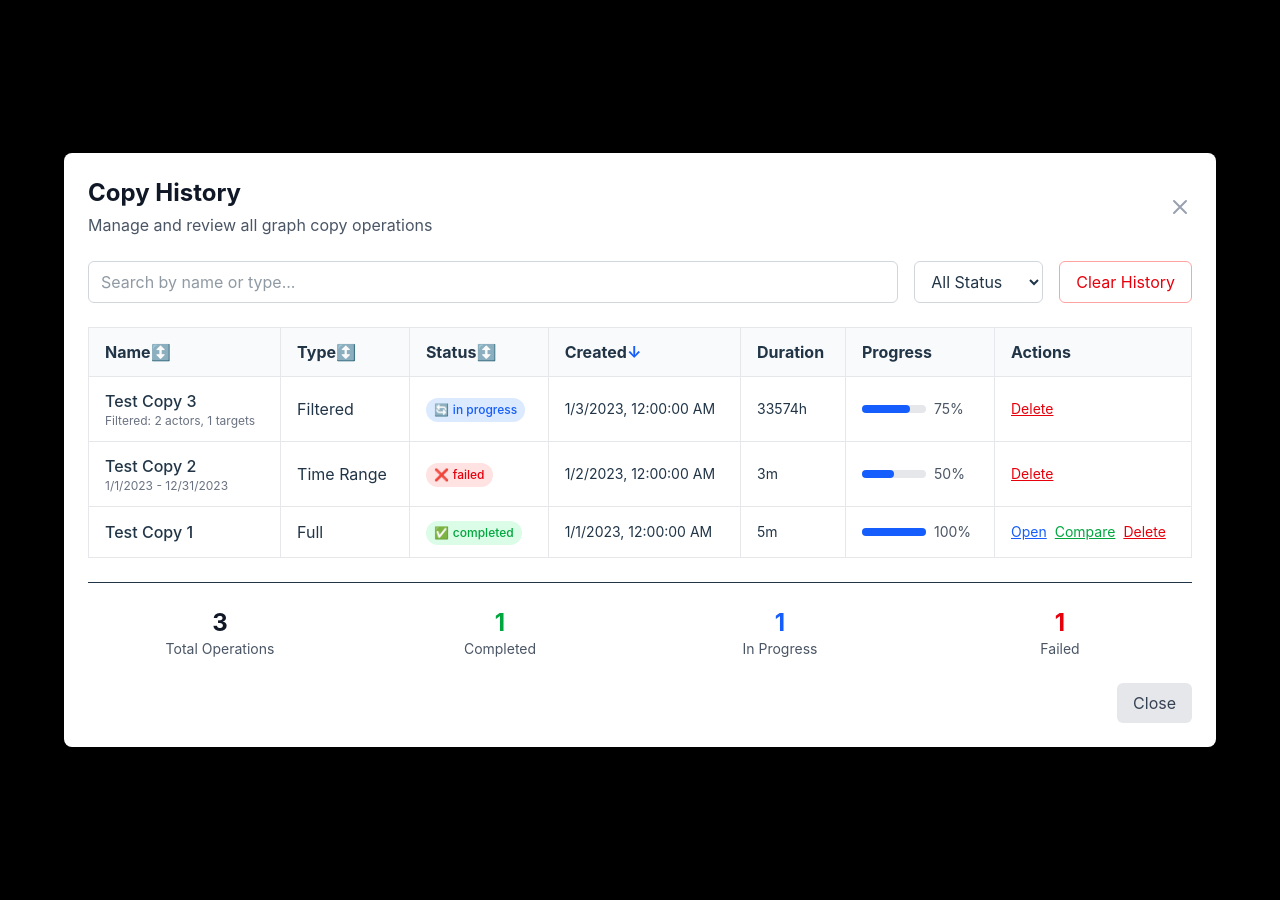
Test case: CopyHistoryPanel › should not delete when the confirmation is cancelled
Click the button "Delete" in the row of "Test Copy 3".
click(1032, 409)  # box [1011,399,1053,419]
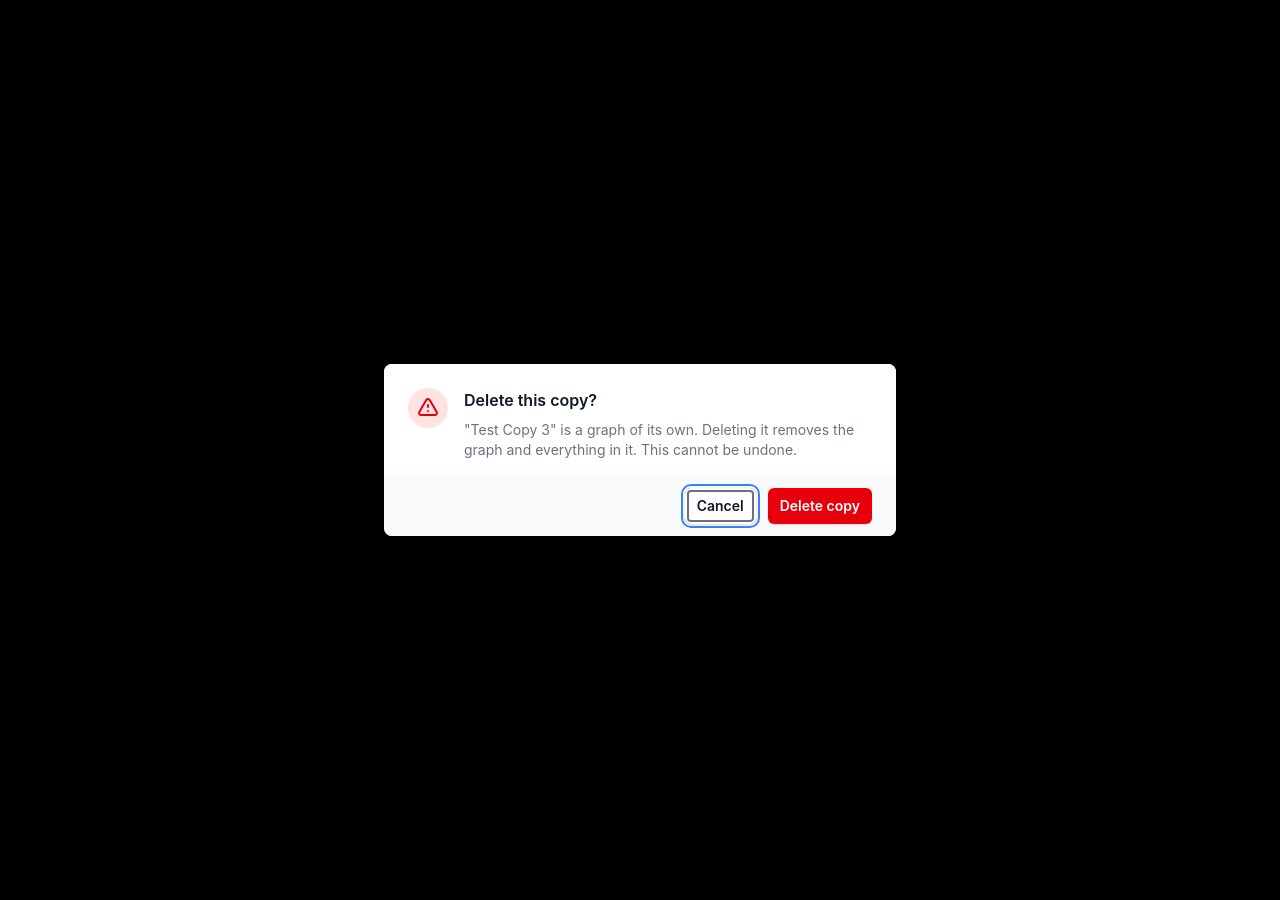
Click the button "Cancel".
click(720, 506)  # box [685,488,756,524]
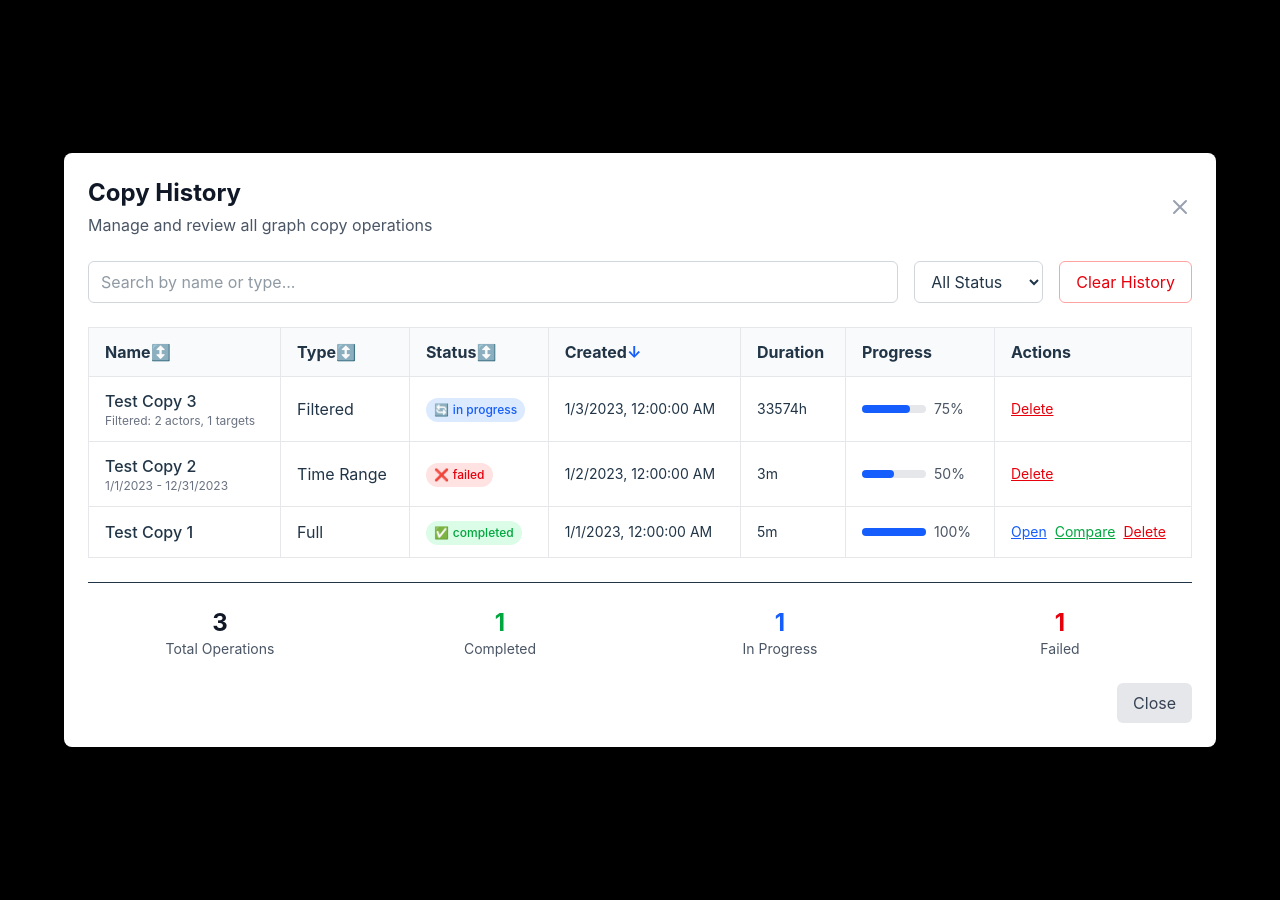
Expected: the heading "Delete this copy?" is gone
